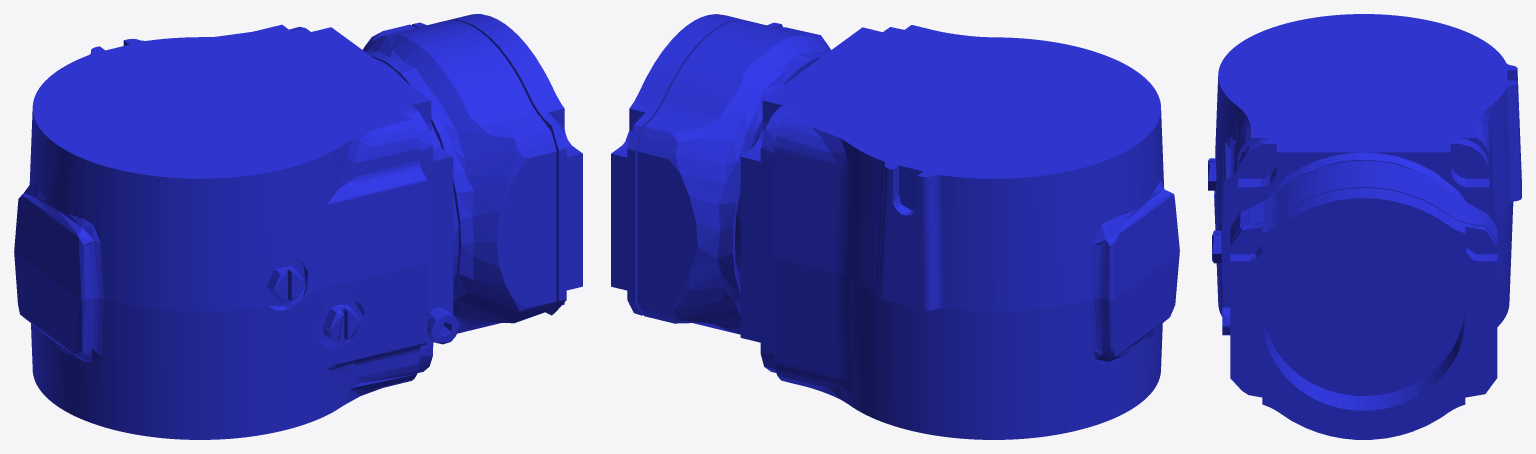
The picture shows the model from 3 angles, left to right: view 1: azimuth 30°, elevation 25°; view 2: azimuth 150°, elevation 25°; view 3: azimuth 270°, elevation 25°; orthographic projection. The views are drawn at different scales.
Parts seen in each view (by area): view 1: /Link5/Link5-mesh/0; view 2: /Link5/Link5-mesh/0; view 3: /Link5/Link5-mesh/0.
Boxes of the visible parts, x1,y1,x2,y2 form: /Link5/Link5-mesh/0: (14, 14, 582, 439); /Link5/Link5-mesh/0: (611, 14, 1179, 439); /Link5/Link5-mesh/0: (1208, 14, 1521, 439).
Bounding box in the file's own units: 0.114 × 0.066 × 0.0776.
